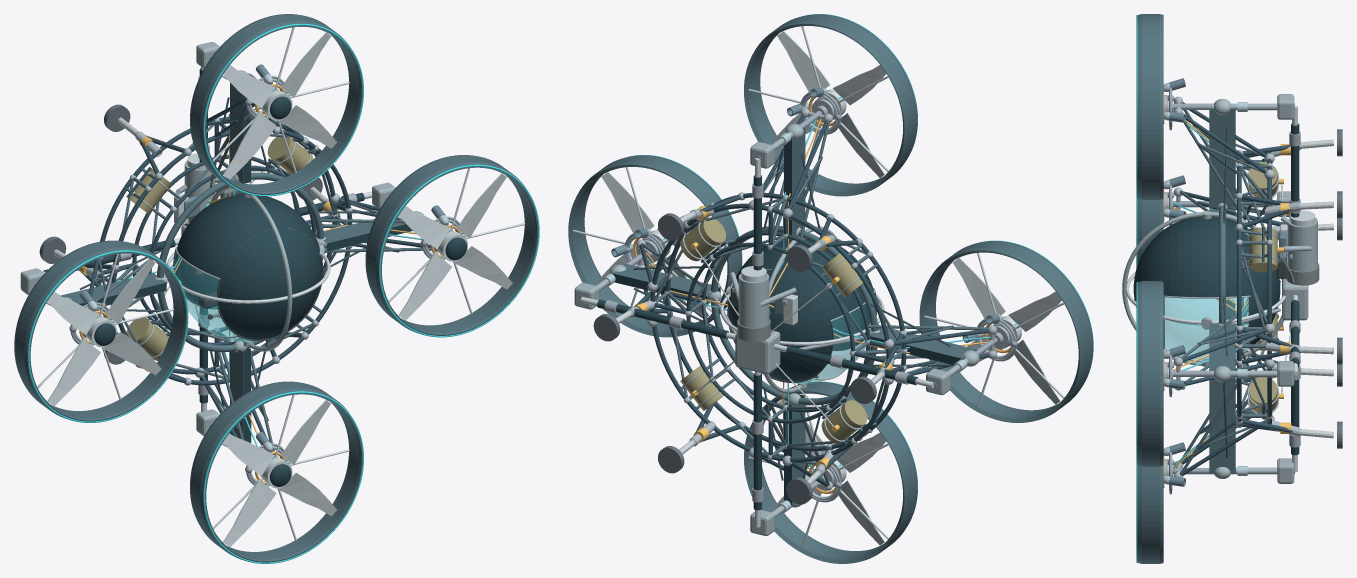
File: airframe-r4.glb
The picture shows the model from 3 angles, left to right: view 1: azimuth 30°, elevation 25°; view 2: azimuth 150°, elevation 25°; view 3: azimuth 270°, elevation 25°; orthographic projection.
Parts seen in each view (by area): view 1: P04 | CFRP upper spherical sandwich.001, P02 | F3 open annular duct.001, P02 | F4 open annular duct.001, P02 | F2 open annular duct.001, P02 | F1 open annular duct.001, P04 | Aft CFRP belt west.001, V4 P06 | UPPER outer compression ring.001, P06 | Carbon ring R=1.190m.001, P04 | Segmented laminated window 1.001, V4 P06 | LOWER outer load ring.001, P02 | F3 blade 3.001, P02 | F2 blade 4.001 (+31 smaller); view 2: P02 | F2 open annular duct.001, P02 | F3 open annular duct.001, P02 | F1 open annular duct.001, P02 | F4 open annular duct.001, P04 | CFRP lower spherical sandwich.001, V4 P06 | LOWER outer load ring.001, V4 P06 | UPPER outer compression ring.001, P06 | Carbon ring R=1.190m.001, V4 P06 | LOWER inner pressure ring.001, P04 | Aft CFRP belt west.001, P01 | M250 C30P class turboshaft schematic.001, P03 | Four way reduction gearbox.001 (+23 smaller); view 3: P04 | Aft CFRP belt east.001, P02 | F2 open annular duct.001, P02 | F1 open annular duct.001, P04 | Segmented laminated window 3.001, P02 | F4 open annular duct.001, P06 | F2 spar side skin.003, P06 | F4 spar side skin.003, P01 | M250 C30P class turboshaft schematic.001, P05 | Outer pitch ring YZ.001, P04 | CFRP upper spherical sandwich.001, P04 | Segmented laminated window 1.001, P04 | Segmented laminated window 2.001 (+30 smaller).
Part boxes in pixels (x1,y1,x2,y2): P04 | CFRP upper spherical sandwich.001: (218, 228, 321, 339); P02 | F3 open annular duct.001: (14, 240, 187, 421); P02 | F4 open annular duct.001: (190, 381, 362, 562); P02 | F2 open annular duct.001: (190, 14, 362, 194); P02 | F1 open annular duct.001: (365, 155, 538, 335); P04 | Aft CFRP belt west.001: (177, 195, 269, 278); V4 P06 | UPPER outer compression ring.001: (111, 129, 352, 385); P06 | Carbon ring R=1.190m.001: (157, 172, 324, 352); P04 | Segmented laminated window 1.001: (174, 252, 236, 336); V4 P06 | LOWER outer load ring.001: (96, 116, 336, 374); P02 | F3 blade 3.001: (47, 338, 100, 405); P02 | F2 blade 4.001: (223, 111, 276, 179); P02 | F2 open annular duct.001: (744, 14, 917, 196); P02 | F3 open annular duct.001: (919, 241, 1093, 422); P02 | F1 open annular duct.001: (568, 155, 741, 337); P02 | F4 open annular duct.001: (744, 381, 917, 563); P04 | CFRP lower spherical sandwich.001: (729, 270, 832, 381); V4 P06 | LOWER outer load ring.001: (650, 203, 890, 462); V4 P06 | UPPER outer compression ring.001: (665, 192, 906, 451); P06 | Carbon ring R=1.190m.001: (711, 225, 878, 405); V4 P06 | LOWER inner pressure ring.001: (686, 242, 854, 423); P04 | Aft CFRP belt west.001: (781, 239, 873, 320); P01 | M250 C30P class turboshaft schematic.001: (738, 273, 769, 327); P03 | Four way reduction gearbox.001: (735, 330, 780, 374); P04 | Aft CFRP belt east.001: (1164, 222, 1249, 297); P02 | F2 open annular duct.001: (1137, 14, 1163, 199); P02 | F1 open annular duct.001: (1137, 281, 1163, 466); P04 | Segmented laminated window 3.001: (1165, 297, 1248, 360); P02 | F4 open annular duct.001: (1137, 465, 1163, 563); P06 | F2 spar side skin.003: (1209, 108, 1235, 207); P06 | F4 spar side skin.003: (1209, 378, 1235, 472); P01 | M250 C30P class turboshaft schematic.001: (1287, 218, 1317, 271); P05 | Outer pitch ring YZ.001: (1122, 212, 1284, 365); P04 | CFRP upper spherical sandwich.001: (1133, 230, 1164, 307); P04 | Segmented laminated window 1.001: (1165, 298, 1247, 320); P04 | Segmented laminated window 2.001: (1165, 320, 1247, 360).
Bounding box in the file's own units: 7.61 × 7.61 × 2.86.
